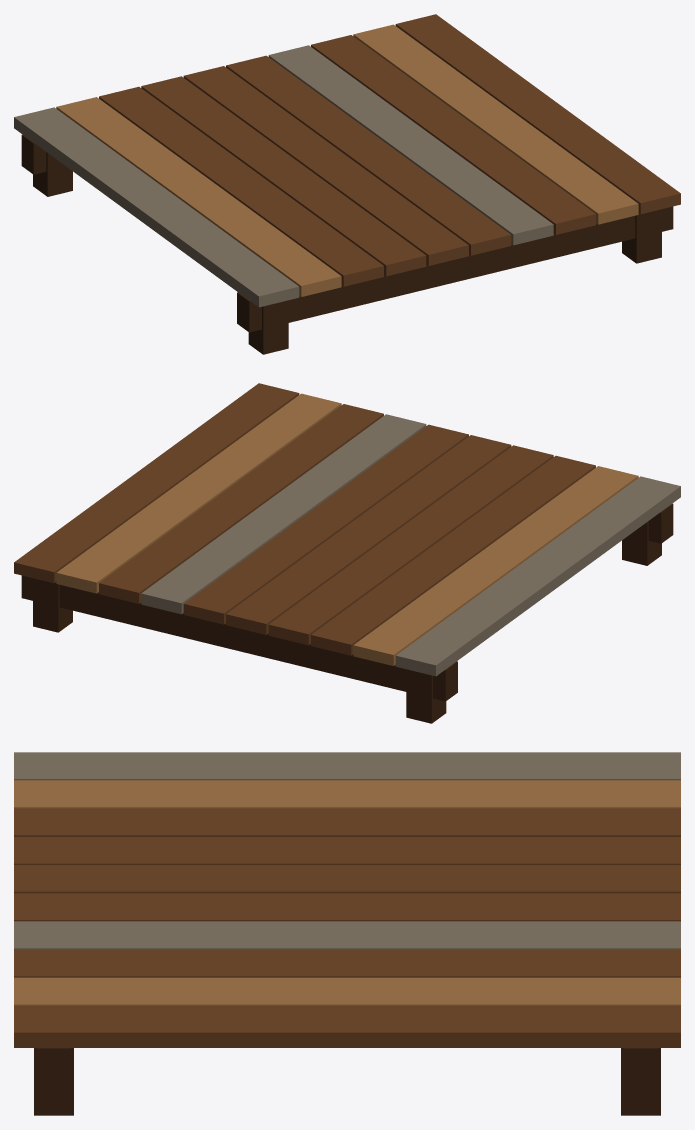
The model's file is SM_Boardwalk.obj.
3 views of the same model, one above another, from view 1: azimuth 30°, elevation 25°; view 2: azimuth 150°, elevation 25°; view 3: azimuth 270°, elevation 25° (orthographic). The views are drawn at different scales.
Visible parts, largest first — view 1: SM_Boardwalk; view 2: SM_Boardwalk; view 3: SM_Boardwalk.
Boxes of the visible parts, <box> form: SM_Boardwalk: <box>14,14,680,354</box>; SM_Boardwalk: <box>14,383,680,723</box>; SM_Boardwalk: <box>14,752,680,1115</box>.
Size of the model in its own units: 2 by 0.3 by 2.
